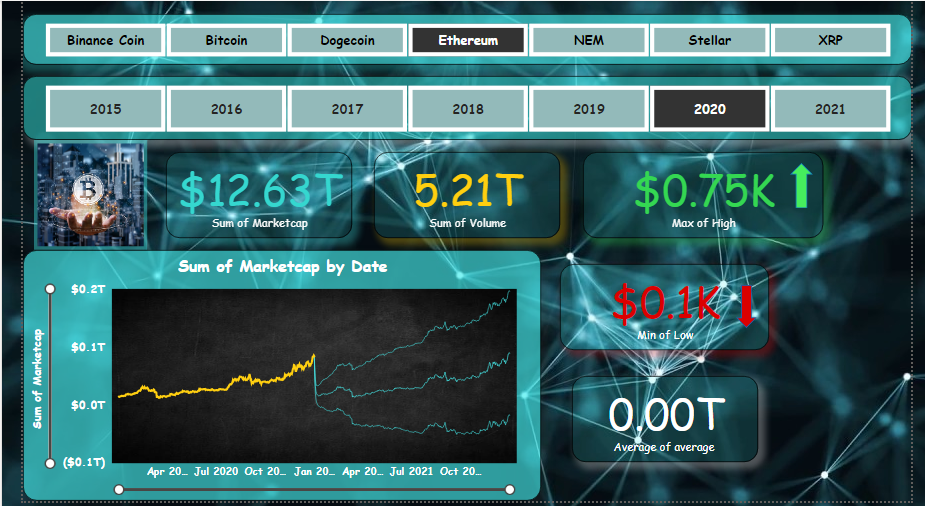

The page's visual inventory and layout, read from the dashboard file:
{"tool":"powerbi","page":{"name":"Page 1","canvas":[1280,720],"ordinal":1},"visuals":[{"type":"slicer","fields":{"Values":["cryptocurrency.Name"]},"box":[0,18.7,1280.2,73.4],"z":0},{"type":"slicer","fields":{"Values":["cryptocurrency.year"]},"box":[0,108,1280.2,92.2],"z":1000},{"type":"lineChart","fields":{"Y":["Sum(cryptocurrency.Marketcap)"],"Category":["cryptocurrency.Date"]},"box":[0,358.6,745.9,361.4],"z":1001},{"type":"image","box":[15.8,200.2,162.7,158.4],"z":1002},{"type":"card","fields":{"Values":["Sum(cryptocurrency.Marketcap)"]},"box":[205.9,217.4,267.8,123.8],"z":1003},{"type":"card","fields":{"Values":["Sum(cryptocurrency.Volume)"]},"box":[505.4,217.4,267.8,123.8],"z":1004},{"type":"card","fields":{"Values":["Max(cryptocurrency.High)"]},"box":[806.4,217.4,345.6,123.8],"z":1005},{"type":"card","fields":{"Values":["Min(cryptocurrency.Low)"]},"box":[773.3,378.7,301,123.8],"z":1006},{"type":"card","fields":{"Values":["Avg(cryptocurrency.average )"]},"box":[790.6,540,267.8,123.8],"z":1007},{"type":"shape","box":[1104.5,233.3,33.1,64.8],"z":1008},{"type":"shape","box":[1026.7,409,30.2,61.9],"z":1009}]}

Visuals, with their boxes in screenshot pixels (x1, y1, x2, y2), scaled from the page's 1280x720 canvas onto the 925x506 screenshot:
slicer - cryptocurrency.Name: bbox=[0, 13, 924, 65]
slicer - cryptocurrency.year: bbox=[0, 76, 924, 141]
lineChart - Sum(cryptocurrency.Marketcap) x cryptocurrency.Date: bbox=[0, 252, 539, 505]
image: bbox=[11, 141, 129, 252]
card - Sum(cryptocurrency.Marketcap): bbox=[149, 153, 342, 240]
card - Sum(cryptocurrency.Volume): bbox=[365, 153, 559, 240]
card - Max(cryptocurrency.High): bbox=[583, 153, 832, 240]
card - Min(cryptocurrency.Low): bbox=[559, 266, 776, 353]
card - Avg(cryptocurrency.average ): bbox=[571, 379, 765, 467]
shape: bbox=[798, 164, 822, 209]
shape: bbox=[742, 287, 764, 331]
